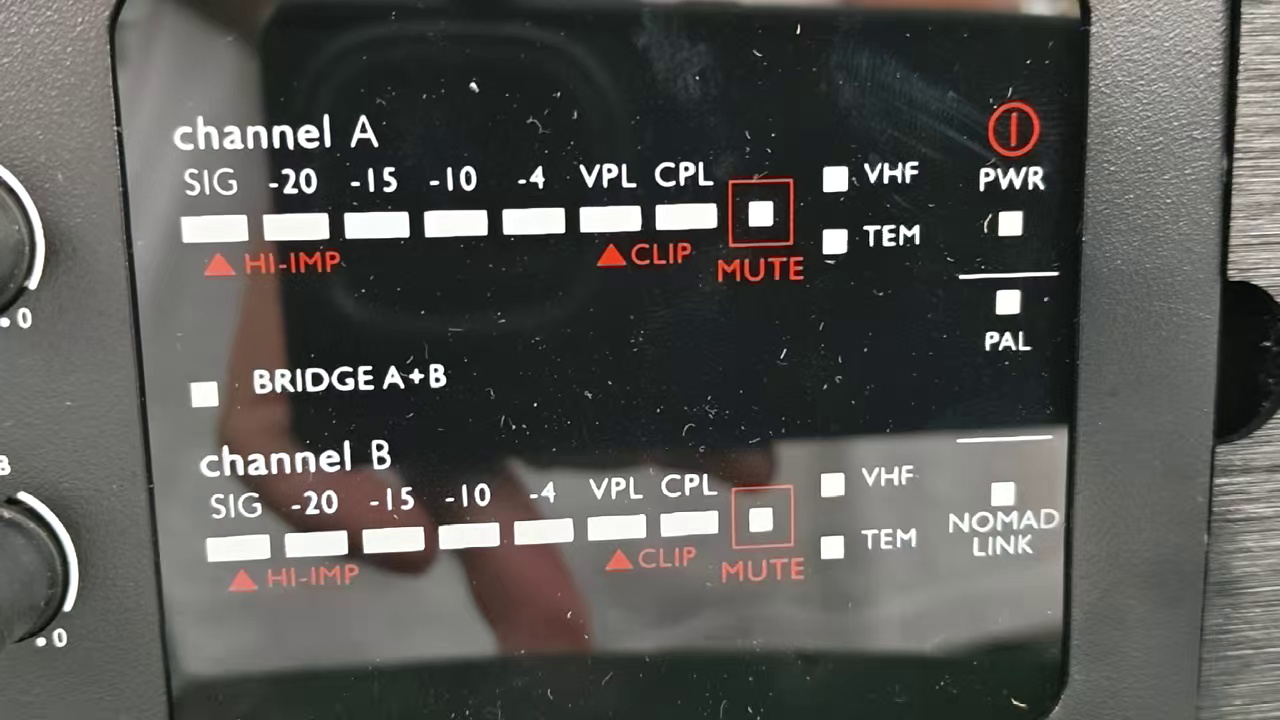FP_CPL: (653, 469, 727, 548), (653, 156, 720, 239)
FP_PWR: (967, 161, 1054, 252)
FP_PWR_area: (953, 98, 1060, 274)
FP_SIG_area: (167, 108, 929, 295), (195, 436, 926, 601)
FP_VPL: (576, 154, 645, 238), (582, 470, 654, 546)
